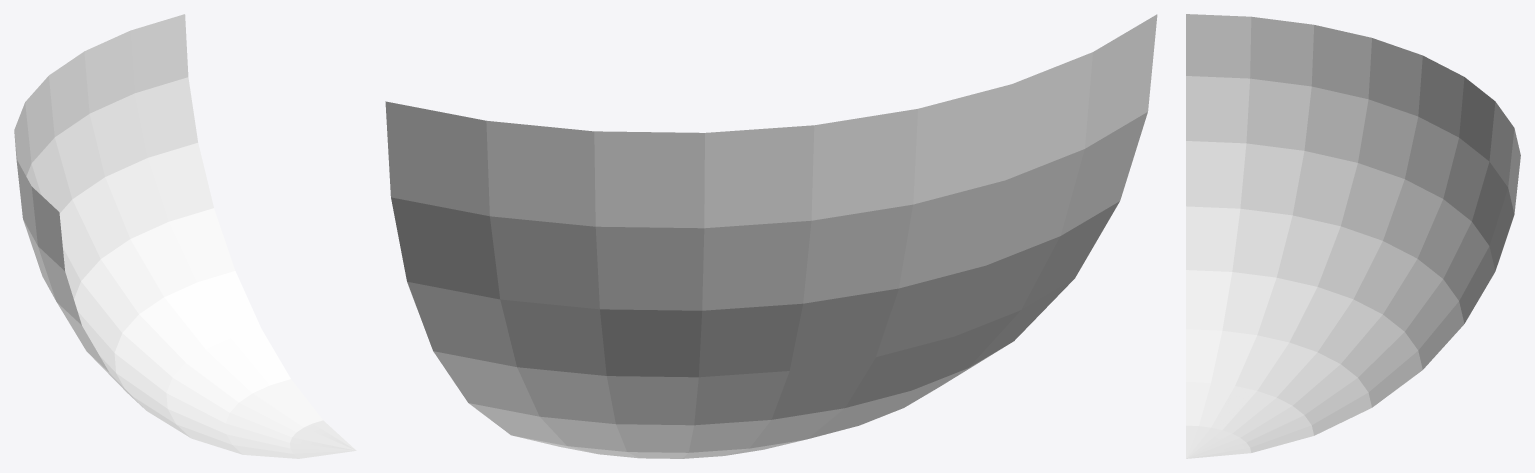
File: r4c2_face_white.gltf
3 renders of one model, left to right at view 1: azimuth 30°, elevation 25°; view 2: azimuth 150°, elevation 25°; view 3: azimuth 270°, elevation 25°, orthographic. The views are drawn at different scales.
Parts seen in each view (by area): view 1: r4c2_face_white; view 2: r4c2_face_white; view 3: r4c2_face_white.
Boxes of the visible parts, bbox=[...] form: r4c2_face_white: bbox=[14, 14, 356, 458]; r4c2_face_white: bbox=[385, 14, 1157, 458]; r4c2_face_white: bbox=[1186, 14, 1520, 458].
Bounding box in the file's own units: 2 × 2 × 2.
Materials: 1 (1 with a texture image).
